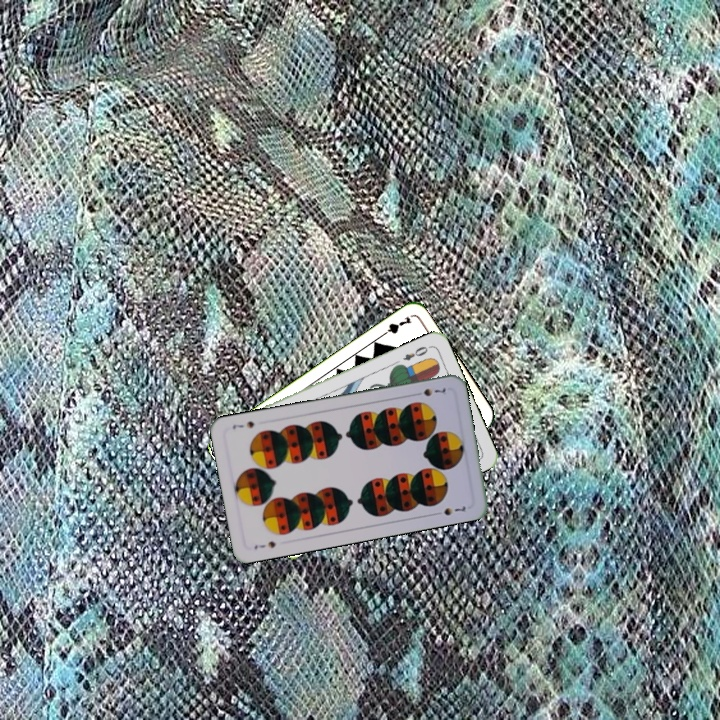EO: (399, 342, 433, 363)
G7: (376, 312, 414, 340)
S7: (410, 384, 448, 399), (250, 537, 278, 552)
